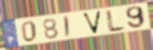0: (20, 21, 37, 44)
8: (42, 17, 60, 40)
9: (126, 6, 148, 30)
I: (63, 15, 71, 40)
L: (106, 9, 127, 34)
V: (81, 10, 103, 35)
